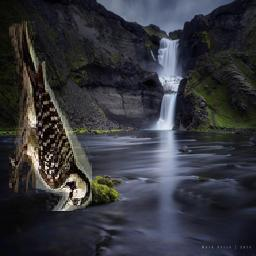Woodpecker: (10, 21, 93, 211)
